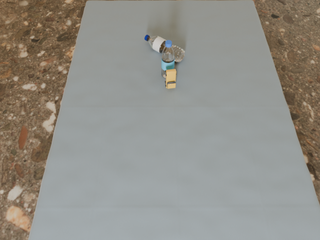bottle: (145, 35, 185, 62), (162, 40, 175, 78)
toy_car: (165, 69, 176, 88)
